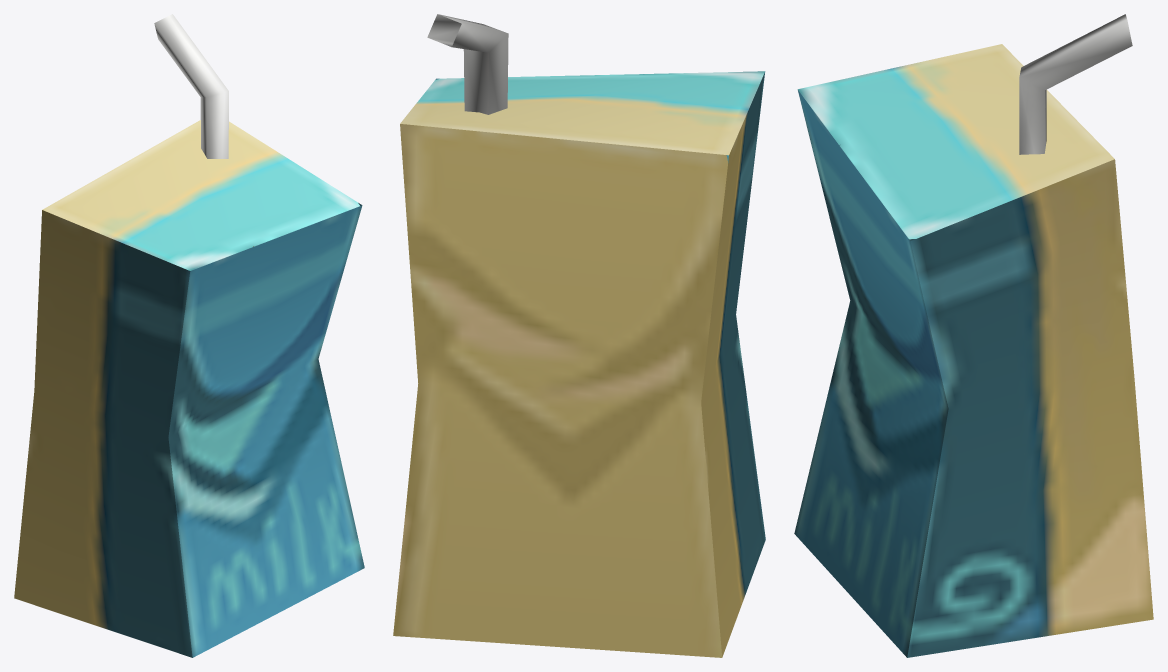
The model's file is 3D_recycle_trash_paper04.FBX.
3 renders of one model, left to right at view 1: azimuth 30°, elevation 25°; view 2: azimuth 150°, elevation 25°; view 3: azimuth 270°, elevation 25°, orthographic. The views are drawn at different scales.
Visible parts, largest first — view 1: 3D_recycle_trash_paper04; view 2: 3D_recycle_trash_paper04; view 3: 3D_recycle_trash_paper04.
Part boxes in pixels (box(x1,y1,x2,y2)): 3D_recycle_trash_paper04: box(14, 14, 364, 657); 3D_recycle_trash_paper04: box(393, 14, 765, 657); 3D_recycle_trash_paper04: box(794, 14, 1153, 657).
Bounding box in the file's own units: 0.2357 × 0.3917 × 0.218.
